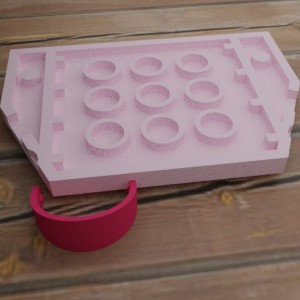lego: (0, 31, 300, 196), (29, 176, 137, 252)
